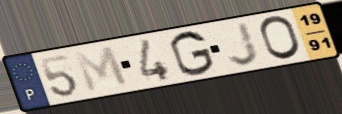4: (138, 37, 172, 82)
5: (37, 52, 81, 99)
G: (168, 29, 217, 78)
J: (226, 20, 262, 67)
M: (71, 44, 133, 94)
O: (257, 14, 303, 62)
